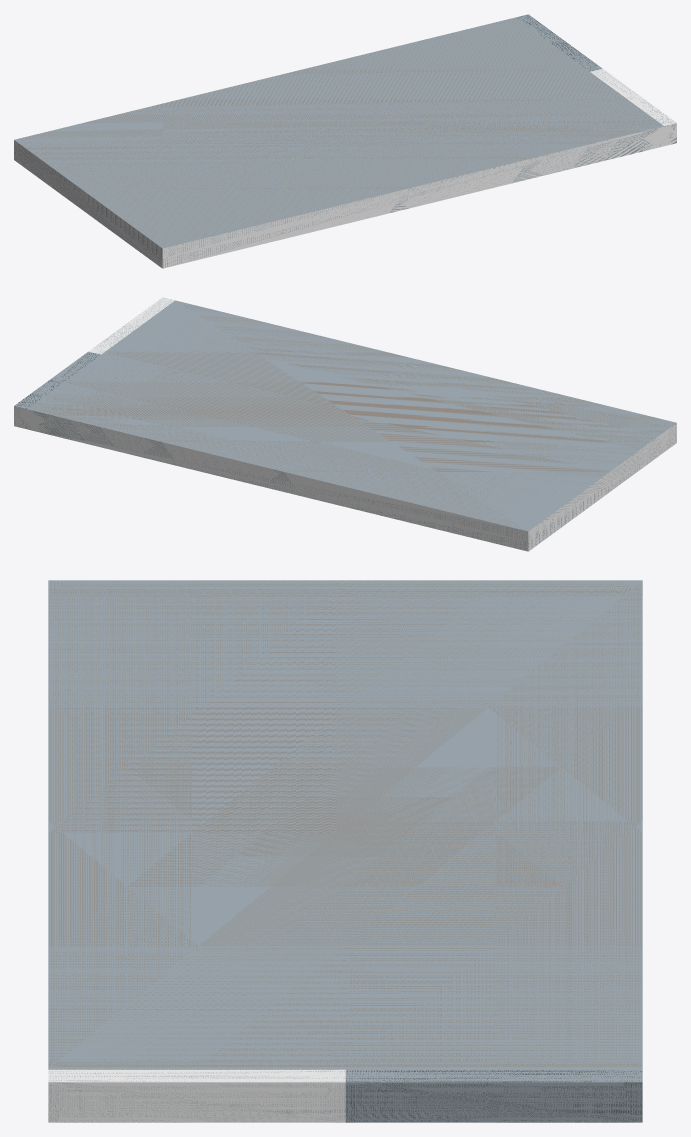
Rendered from curb_walkway_small.fbx.
3 views of the same model, one above another, from view 1: azimuth 30°, elevation 25°; view 2: azimuth 150°, elevation 25°; view 3: azimuth 270°, elevation 25° (orthographic). The views are drawn at different scales.
Parts seen in each view (by area): view 1: Group1; view 2: Group1; view 3: Group1.
Boxes of the visible parts, bbox=[...] form: Group1: bbox=[14, 14, 676, 268]; Group1: bbox=[14, 297, 676, 551]; Group1: bbox=[48, 580, 642, 1122].
Size of the model in its own units: 4 by 0.15 by 2.
